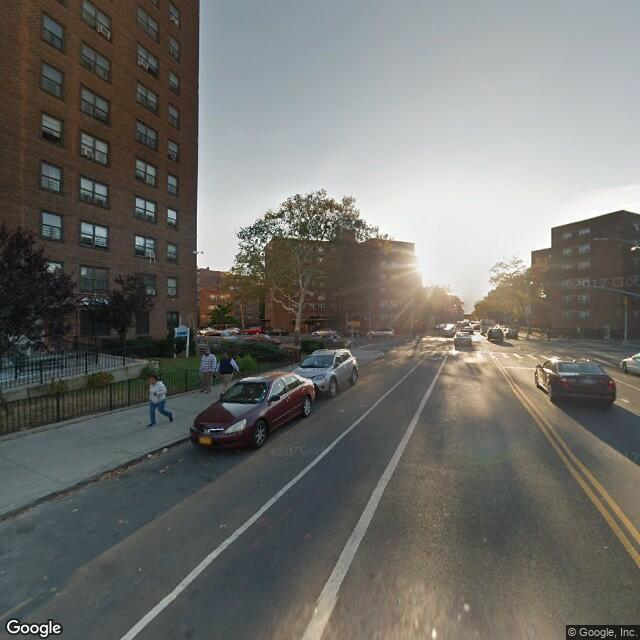litter: (340, 408, 349, 413)
